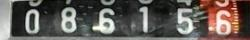digits: (91, 7, 115, 34), (175, 8, 194, 34), (60, 6, 77, 33), (24, 8, 40, 33), (215, 9, 230, 35), (138, 5, 148, 32)
